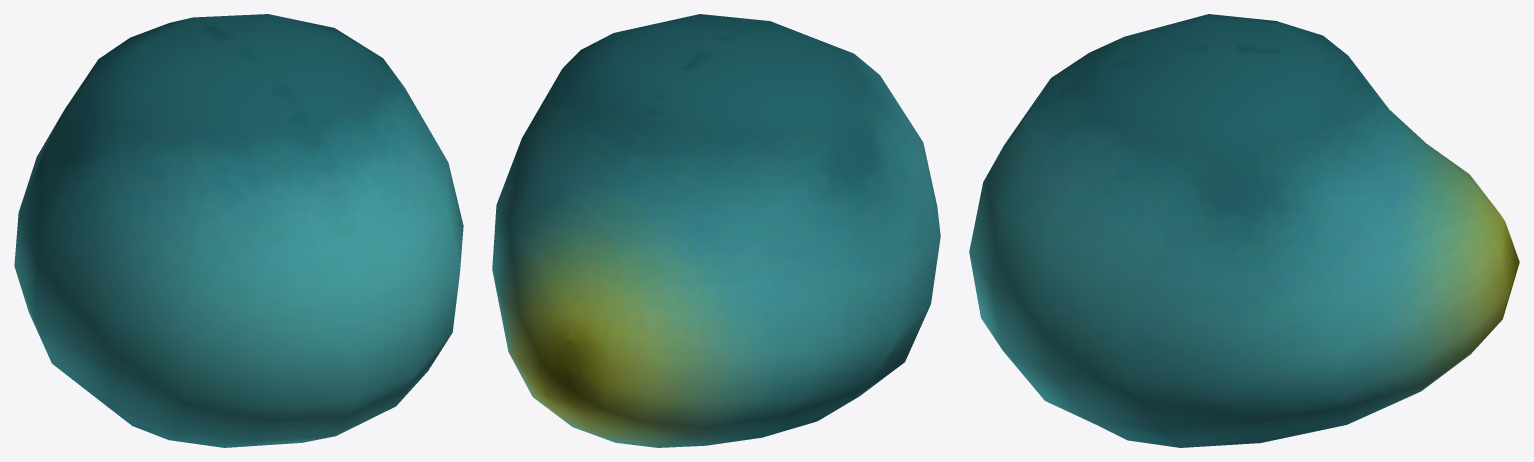
File: chaoBody.obj
The picture shows the model from 3 angles, left to right: view 1: azimuth 30°, elevation 25°; view 2: azimuth 150°, elevation 25°; view 3: azimuth 270°, elevation 25°; orthographic projection.
Parts seen in each view (by area): view 1: chd_b_M.004; view 2: chd_b_M.004; view 3: chd_b_M.004.
Part boxes in pixels (left/top/right/bottom): chd_b_M.004: left=14, top=14, right=463, bottom=447; chd_b_M.004: left=492, top=14, right=940, bottom=447; chd_b_M.004: left=969, top=14, right=1519, bottom=447.
Bounding box in the file's own units: 4.58 × 4.06 × 5.55.
Materials: 1 (1 with a texture image).
